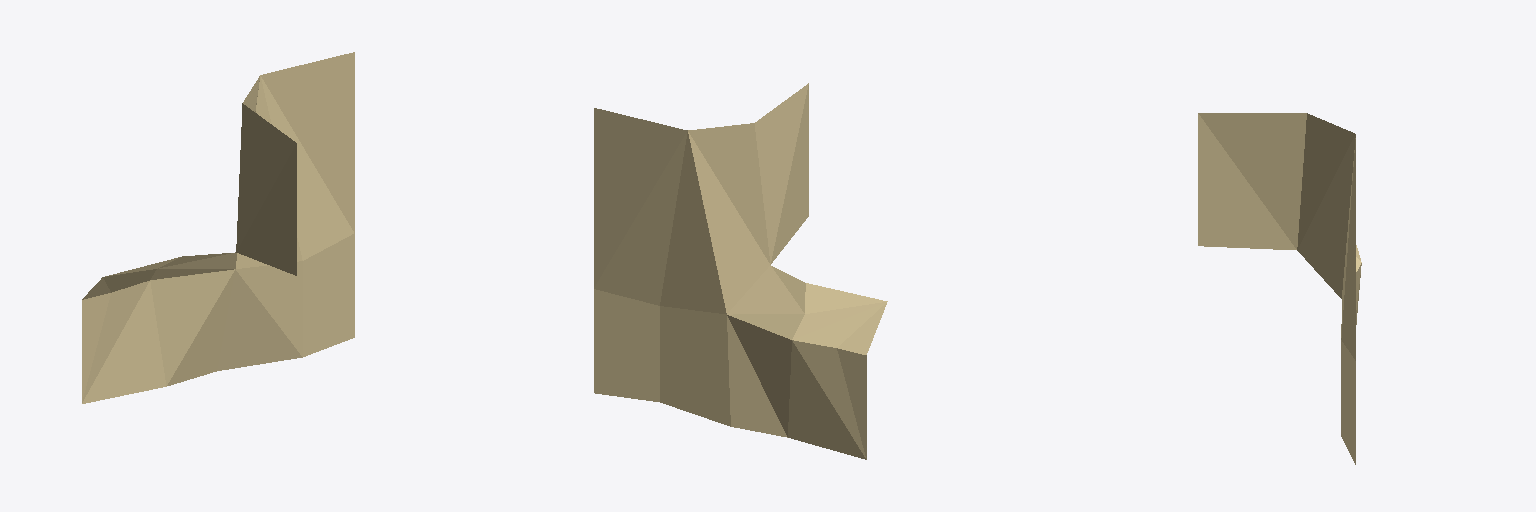
File: wfc_module_27.obj
3 renders of one model, left to right at view 1: azimuth 30°, elevation 25°; view 2: azimuth 150°, elevation 25°; view 3: azimuth 270°, elevation 25°, orthographic.
Size of the model in its own units: 1 by 1 by 0.5189.